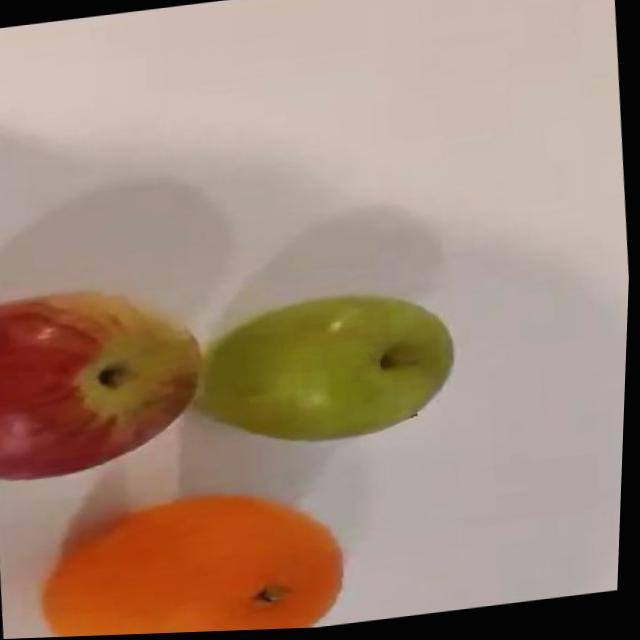Apple: (187, 283, 465, 458), (0, 274, 216, 484)
Orange: (36, 477, 356, 638)
